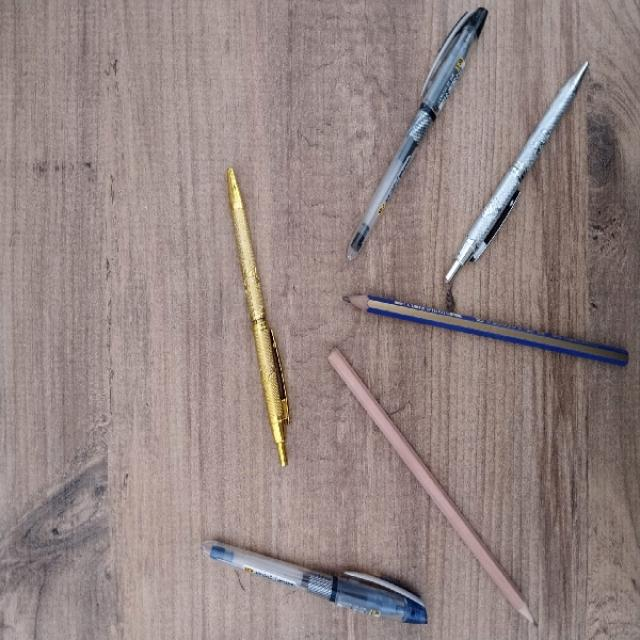pen: (346, 11, 483, 261), (202, 541, 424, 623)
pencil: (329, 349, 533, 621), (342, 294, 630, 364)
signature pen: (445, 62, 587, 282), (226, 170, 285, 466)
